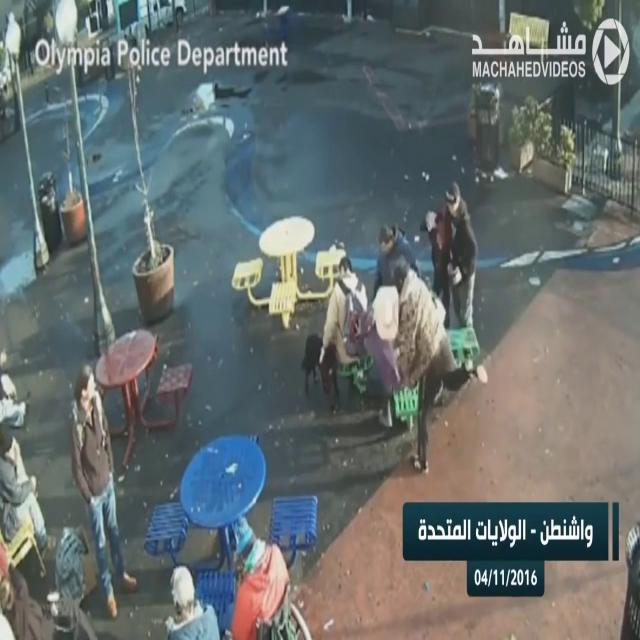Violence: (346, 262, 488, 476)
